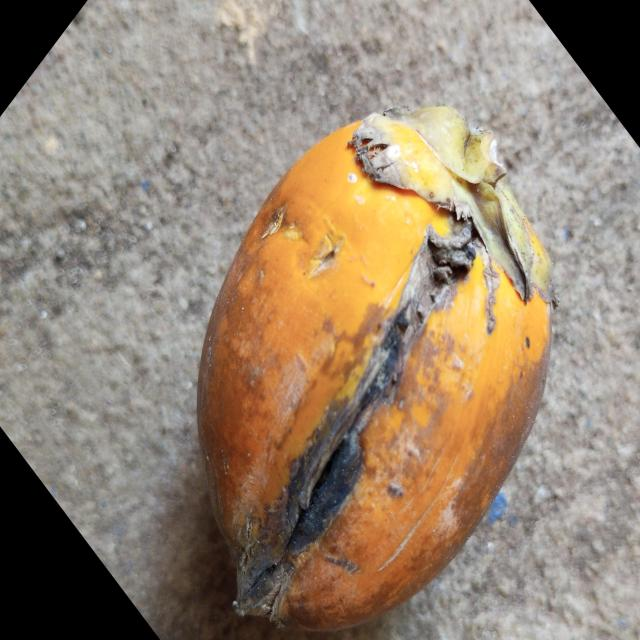damaged: (194, 106, 552, 637)
